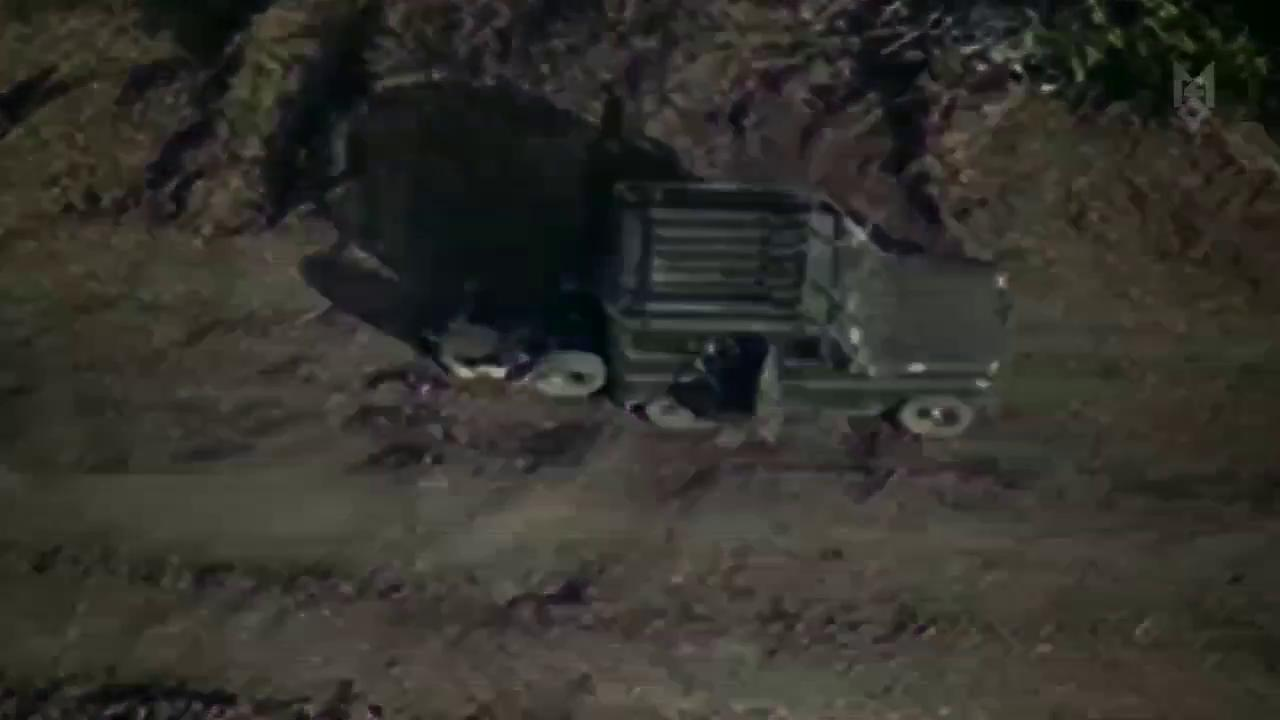tank: (606, 171, 1018, 459)
